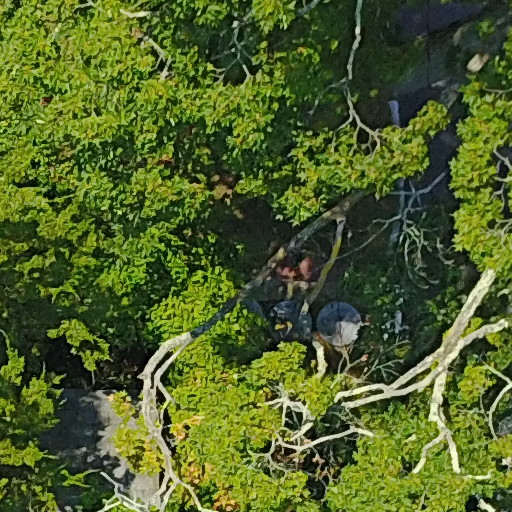container: (313, 296, 375, 352), (260, 291, 314, 346)
